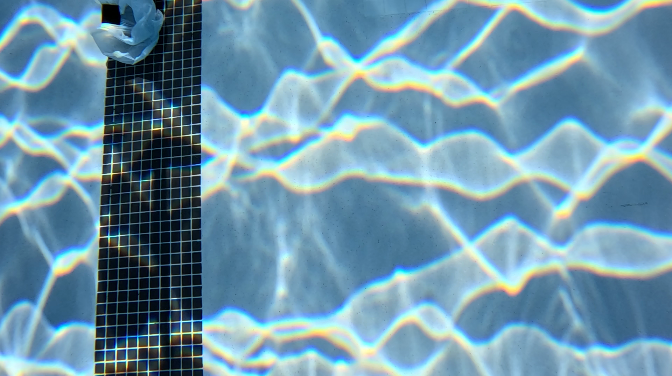sandbag: (93, 0, 159, 61)
